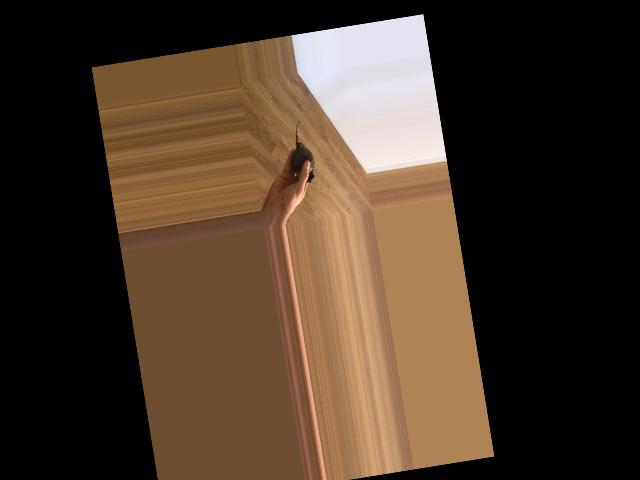beet: (285, 119, 317, 184)
